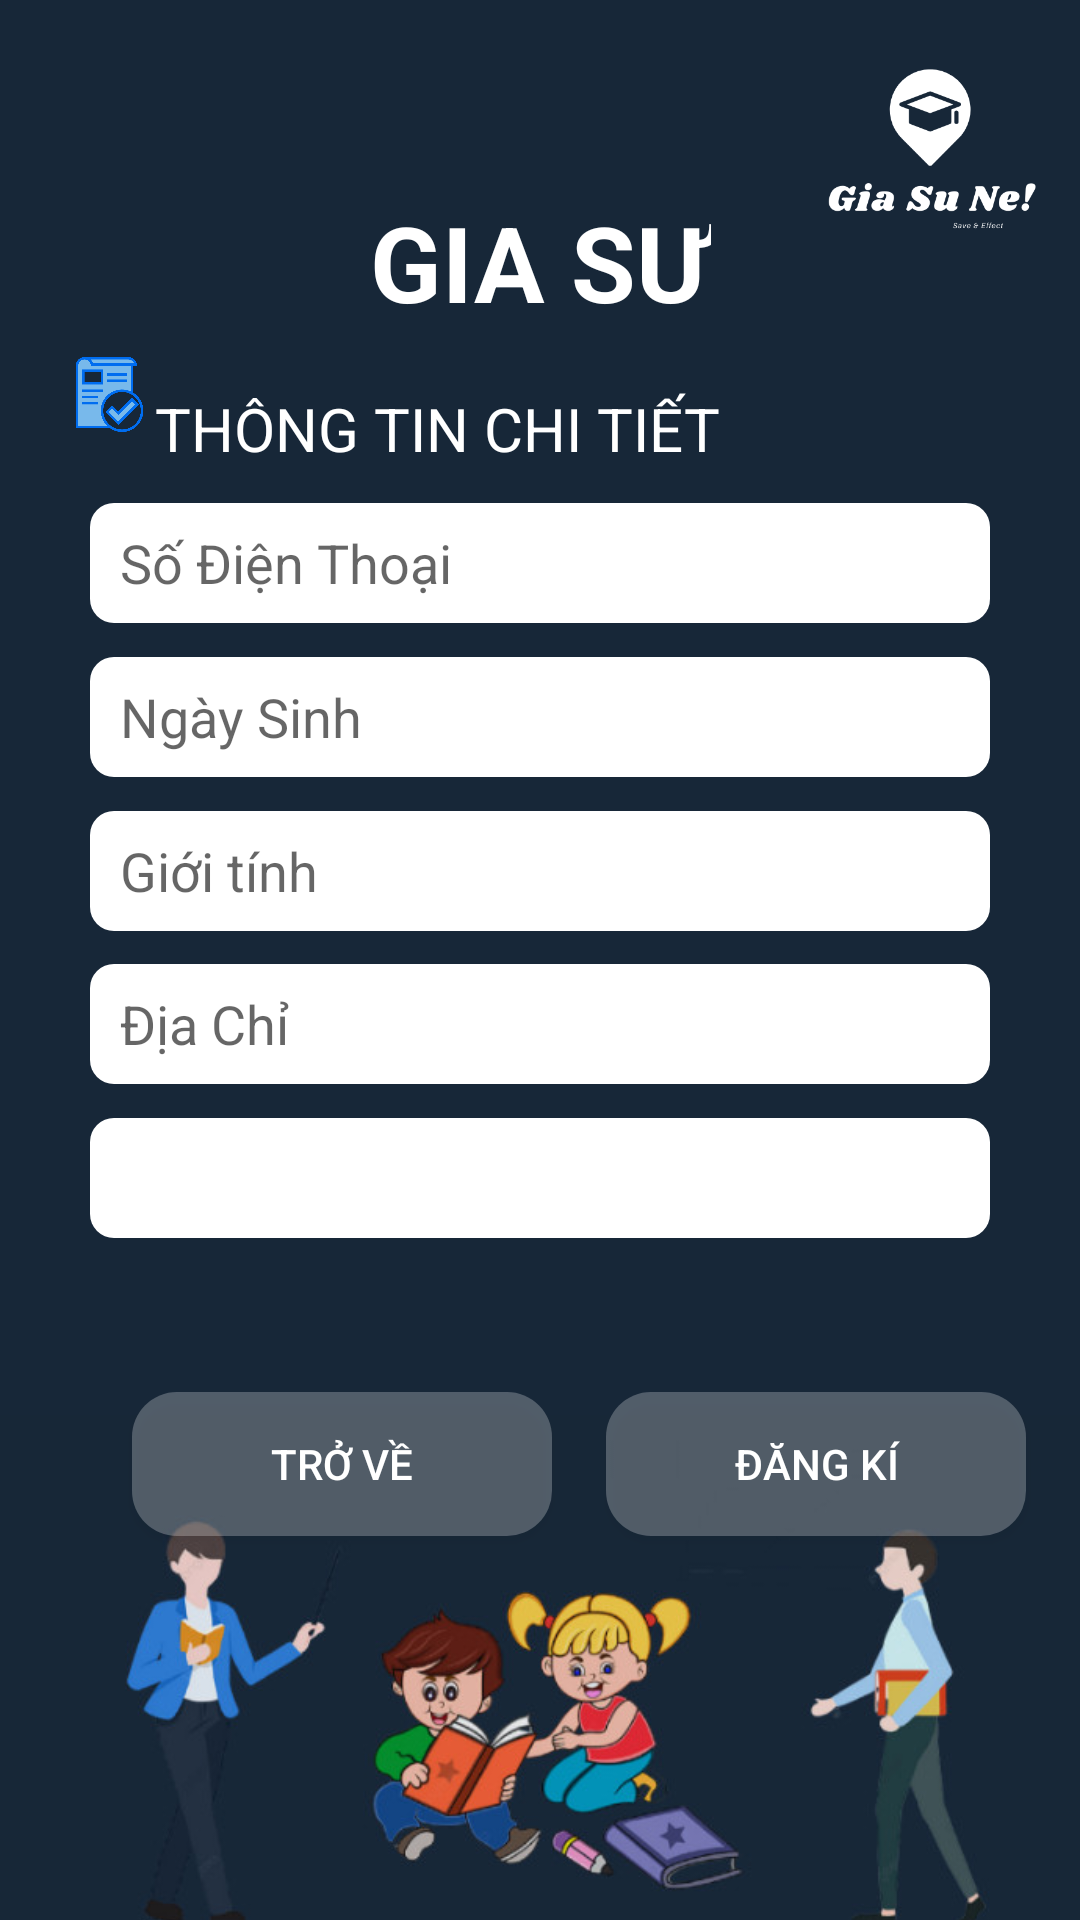

Locate icon controls on the screen. Image size 1080×1920, boxes as [x1,y1,x2,y2].
file: [76,357,143,432]
